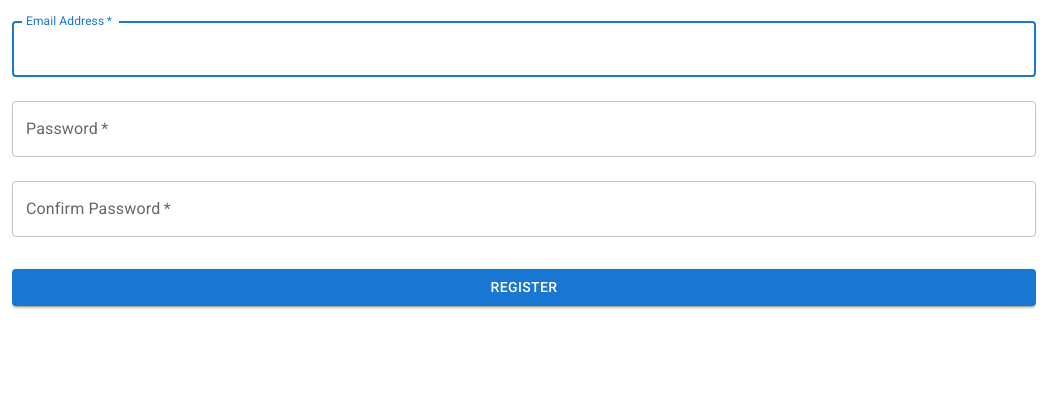
Test case: RegistrationForm › should display success message on successful registration
In the field labelled "Email Address *": {"x": 524, "y": 49} [12,21,1036,77], type "new@example.com"
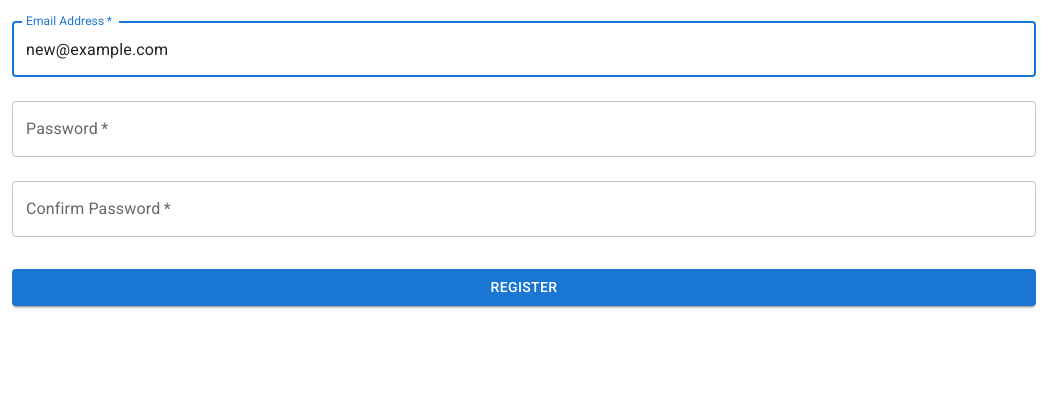
In the password field labelled "Password *": {"x": 524, "y": 129} [12,101,1036,157], type "password123"
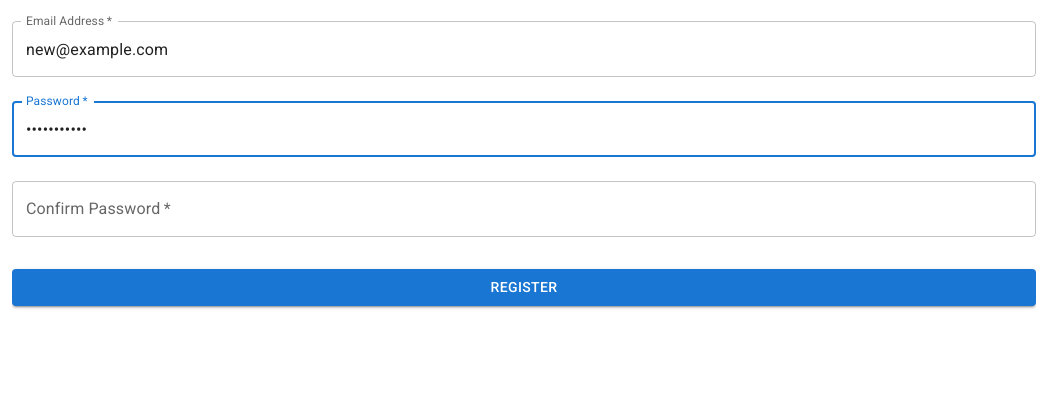
In the password field labelled "Confirm Password *": {"x": 524, "y": 209} [12,181,1036,237], type "password123"
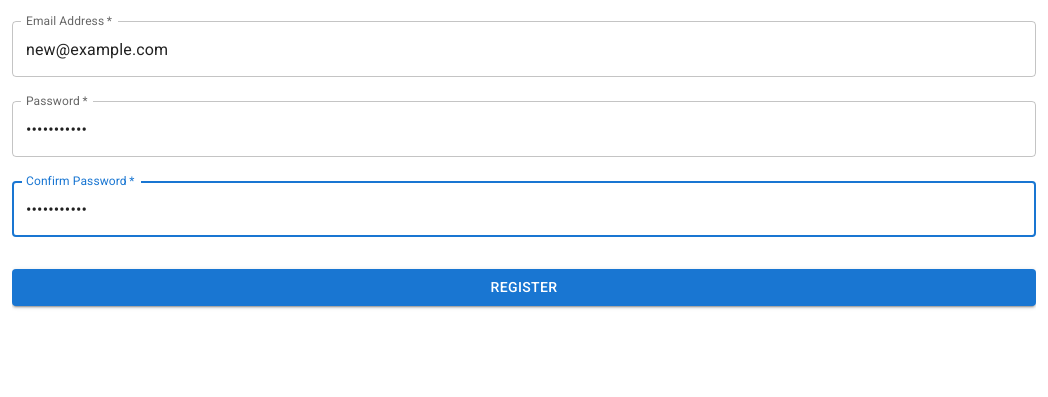
Click the button "Register": {"x": 524, "y": 287} [12,269,1036,306]
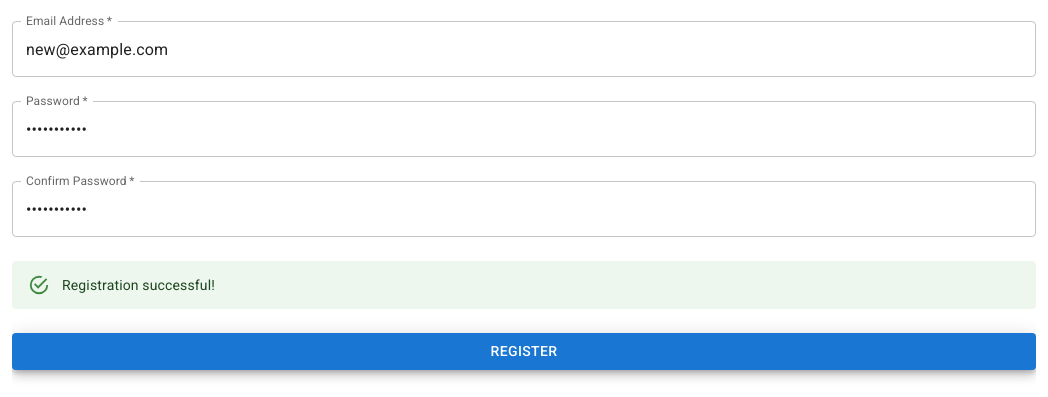
Now the text "Registration successful!" is shown, box [62,277,215,293]
